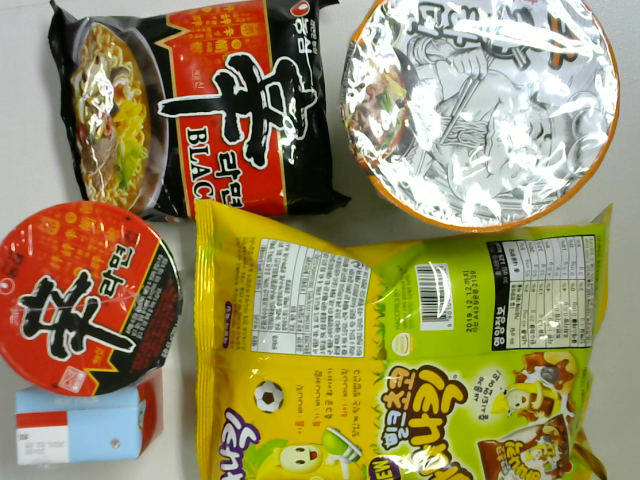Banana_Kick: (189, 196, 612, 480)
Hejangchan: (345, 2, 619, 238)
Picnic_Apple: (9, 380, 163, 462)
Sinramen_Black: (45, 4, 359, 224)
Sinramen_small: (1, 202, 173, 398)
